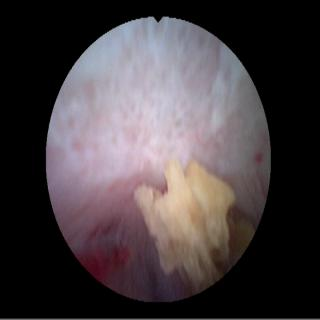stone: (136, 159, 253, 290)
